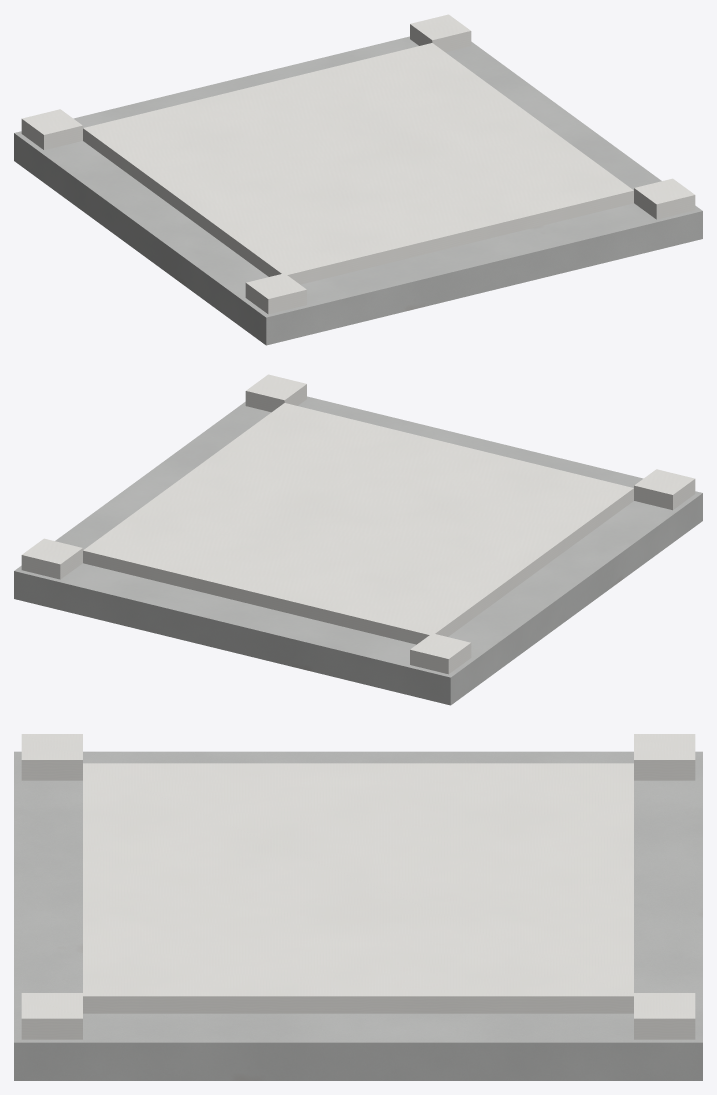
File: plate.gltf
3 renders of one model, top to bottom at view 1: azimuth 30°, elevation 25°; view 2: azimuth 150°, elevation 25°; view 3: azimuth 270°, elevation 25°, orthographic. The views are drawn at different scales.
Visible parts, largest first — view 1: jx_plate; view 2: jx_plate; view 3: jx_plate.
Part boxes in pixels (<box>): jx_plate: <box>14,14,702,345</box>; jx_plate: <box>14,374,702,705</box>; jx_plate: <box>14,734,702,1080</box>.
Bounding box in the file's own units: 1.8 × 0.17 × 1.8.
2 materials, 2 textured.
